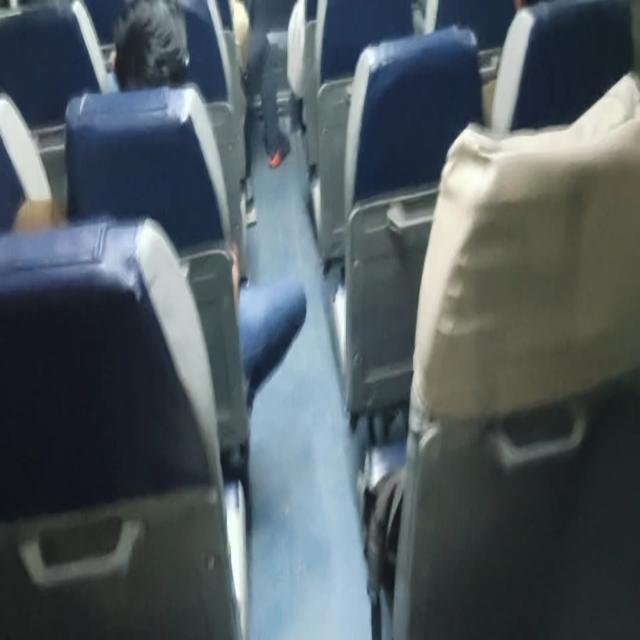person: (107, 0, 307, 408), (110, 0, 190, 91)
